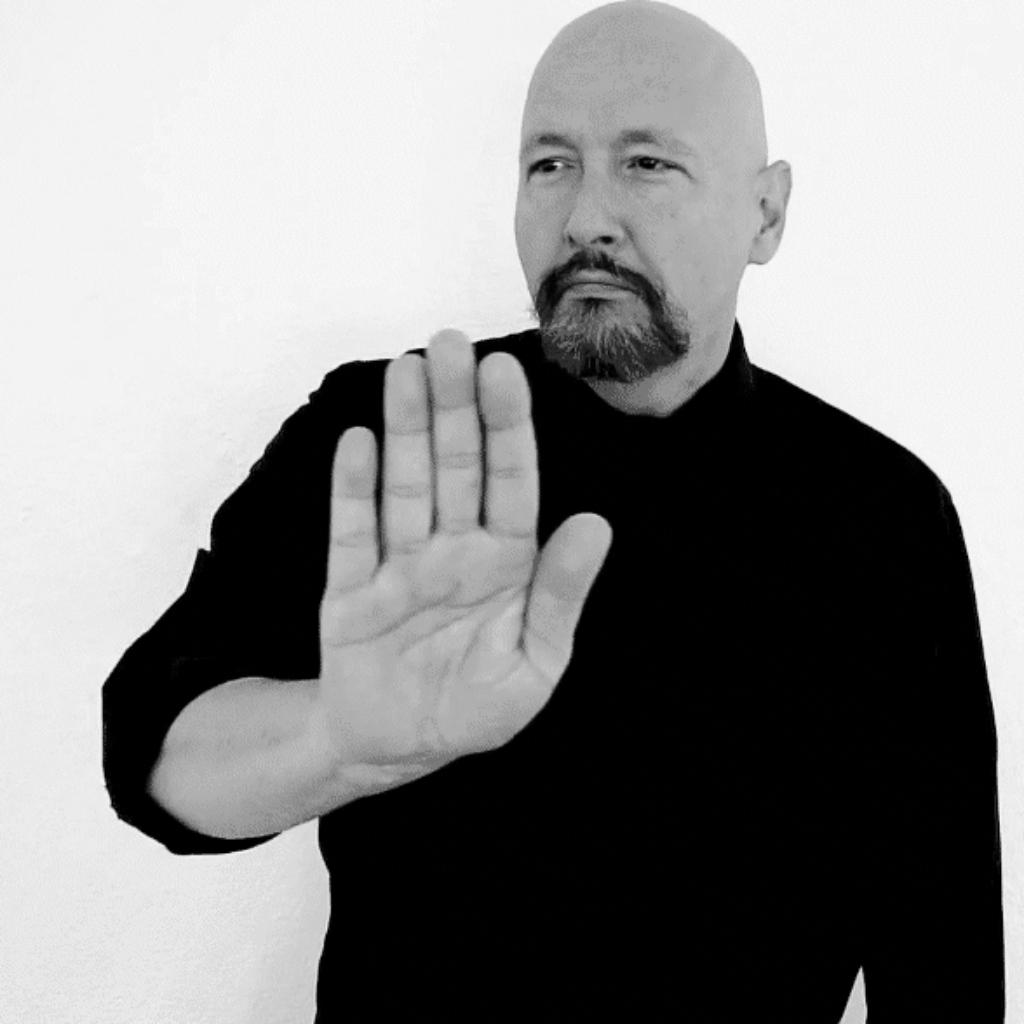your: (321, 329, 613, 761)
